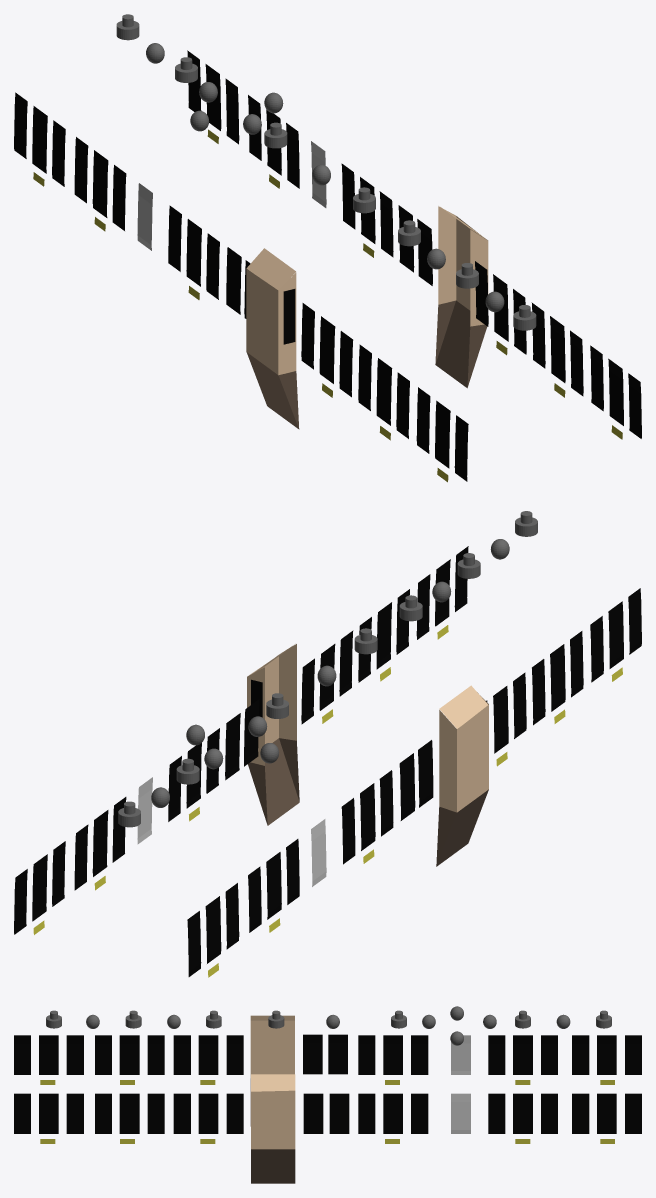
File: lswr-48ft-lav-brake-tricomposite-windows.dae
The picture shows the model from 3 angles, top to bottom: view 1: azimuth 30°, elevation 25°; view 2: azimuth 150°, elevation 25°; view 3: azimuth 270°, elevation 25°; orthographic projection. The views are drawn at different scales.
Visible parts, largest first — view 1: Plane_123_001_003, Plane_123_001_002, Plane_174, Plane_147, Plane_158, Plane_163, Plane_031, Plane_171, Plane_563, Plane_150, Plane_003, Plane_011 (+24 smaller); view 2: Plane_123_001_003, Plane_123_001_002, Plane_174, Plane_150, Plane_158, Plane_163, Plane_171, Plane_563, Plane_568, Plane_147, Plane_031, Plane_134 (+23 smaller); view 3: Plane_123_001_002, Plane_123_001_003, Plane_011, Plane_566, Plane_042, Plane_569, Plane_171, Plane_563, Plane_003, Plane_019, Plane_026, Plane_131 (+32 smaller).
Boxes of the visible parts, <box> form: Plane_123_001_003: <box>246,248,299,429</box>; Plane_123_001_002: <box>435,206,488,388</box>; Plane_174: <box>435,400,450,468</box>; Plane_147: <box>32,106,47,173</box>; Plane_158: <box>186,219,201,286</box>; Plane_163: <box>137,183,152,250</box>; Plane_031: <box>226,247,241,314</box>; Plane_171: <box>376,358,392,425</box>; Plane_563: <box>319,316,335,383</box>; Plane_150: <box>92,150,108,217</box>; Plane_003: <box>608,358,623,425</box>; Plane_011: <box>550,316,565,382</box>; Plane_123_001_003: <box>436,685,488,866</box>; Plane_123_001_002: <box>247,644,299,825</box>; Plane_174: <box>608,601,623,668</box>; Plane_150: <box>266,852,281,919</box>; Plane_158: <box>360,783,375,850</box>; Plane_163: <box>311,819,326,886</box>; Plane_171: <box>550,644,565,711</box>; Plane_563: <box>493,686,508,753</box>; Plane_568: <box>418,740,433,807</box>; Plane_147: <box>205,896,221,963</box>; Plane_031: <box>399,753,415,820</box>; Plane_134: <box>32,854,47,921</box>; Plane_123_001_002: <box>251,1074,295,1183</box>; Plane_123_001_003: <box>250,1015,294,1126</box>; Plane_011: <box>119,1093,139,1133</box>; Plane_566: <box>198,1093,218,1133</box>; Plane_042: <box>329,1093,349,1133</box>; Plane_569: <box>303,1093,323,1133</box>; Plane_171: <box>119,1035,139,1074</box>; Plane_563: <box>198,1035,218,1074</box>; Plane_003: <box>39,1093,58,1133</box>; Plane_019: <box>451,1093,470,1133</box>; Plane_026: <box>383,1093,402,1133</box>; Plane_131: <box>513,1093,532,1133</box>.
Bounding box in the file's own units: 2.11 × 7.89 × 1.98.
